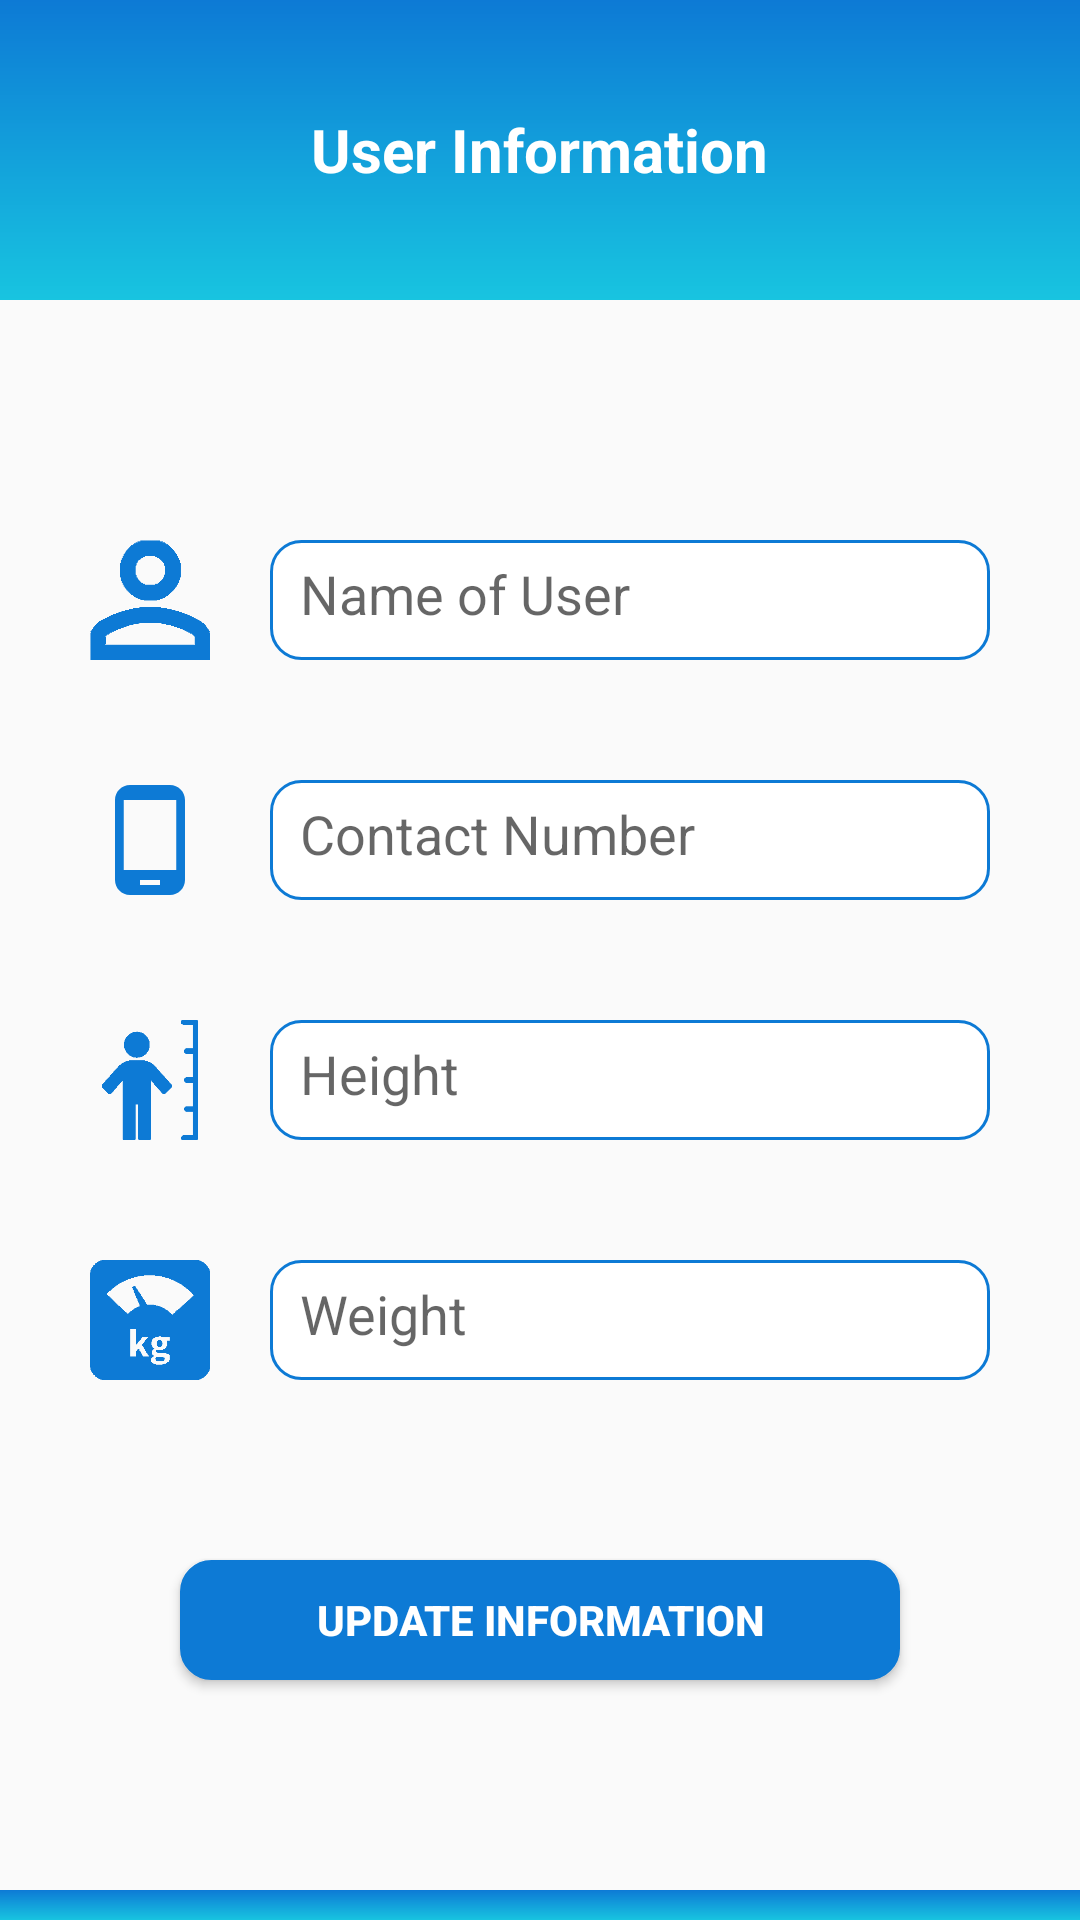

Where icons sit on this 1080 x 1920 app screen, as bbox(x1, y1, x2, y2):
phone: bbox(115, 785, 185, 895)
